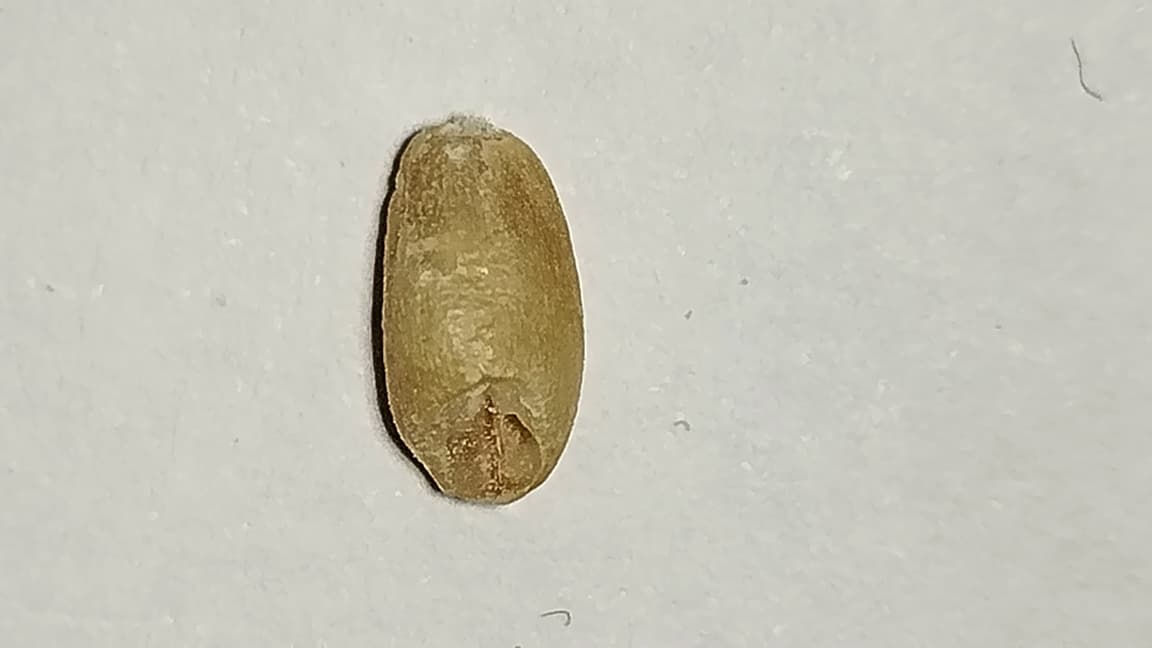damage: (371, 112, 585, 504)
insectdamage: (400, 363, 549, 503)
